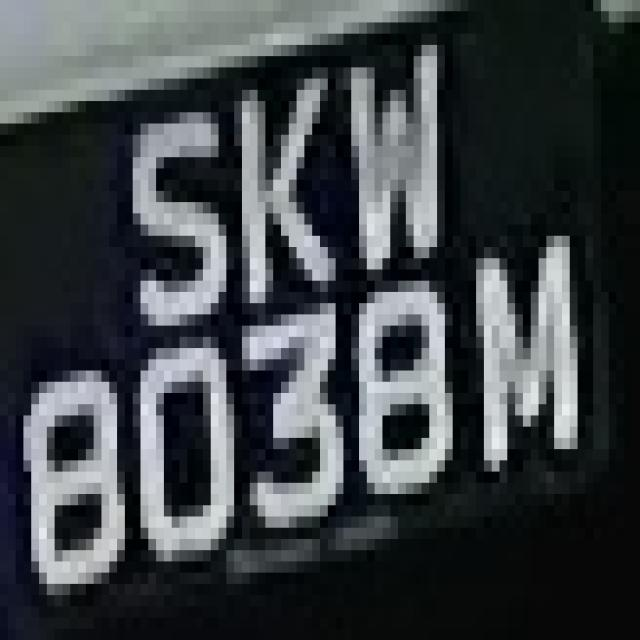0: (109, 314, 242, 550)
3: (242, 314, 367, 539)
8: (16, 359, 156, 595), (328, 258, 460, 506)
K: (203, 68, 336, 304)
M: (468, 191, 593, 505)
S: (125, 90, 226, 337)
W: (320, 22, 453, 280)
